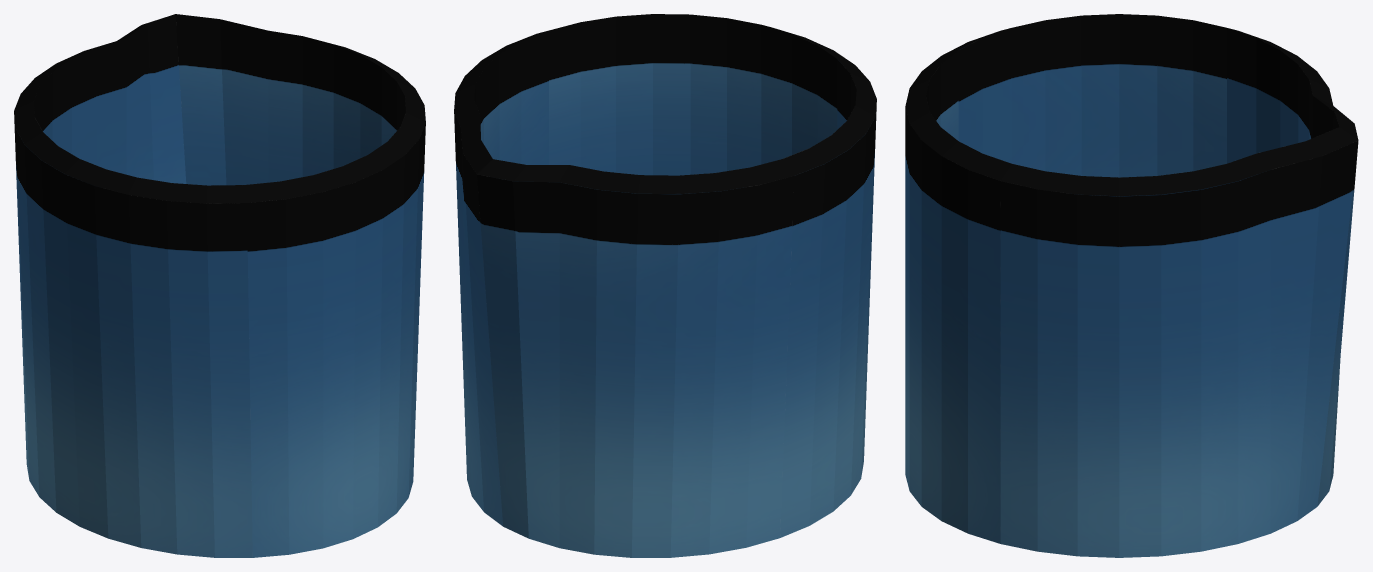
The model's file is balde.fbx.
3 views of the same model, side by side, from view 1: azimuth 30°, elevation 25°; view 2: azimuth 150°, elevation 25°; view 3: azimuth 270°, elevation 25° (orthographic). The views are drawn at different scales.
Visible parts, largest first — view 1: balde_; view 2: balde_; view 3: balde_.
Boxes of the visible parts, x1,y1,x2,y2 form: balde_: (14, 14, 425, 557); balde_: (454, 14, 876, 557); balde_: (905, 14, 1358, 557).
Bounding box in the file's own units: 200 × 196 × 212.
Materials: 1 (1 with a texture image).
